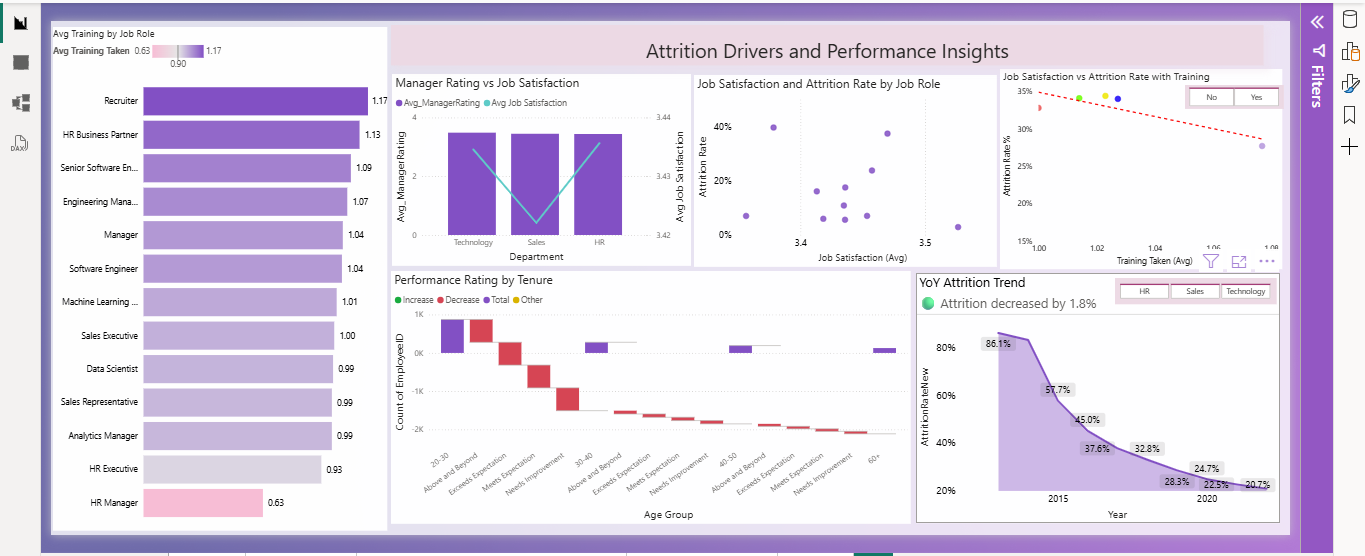

The dashboard page shown, as its layout file describes it:
{"tool":"powerbi","page":{"name":"Attrition Drivers and Performance Insights","canvas":[1931,800],"ordinal":2},"visuals":[{"type":"clusteredBarChart","title":"Avg Training by Job Role","fields":{"Category":["Employee.JobRole"],"Y":["Avg(PerformanceRating.TrainingOpportunitiesTaken)"]},"box":[3.1,9.2,521.4,785.1],"z":0},{"type":"scatterChart","title":"Job Satisfaction and Attrition Rate by Job Role","fields":{"Y":["Page1 Measure.Attrition Rate"],"X":["Page1 Measure.Avg Job Satisfaction"],"Category":["Employee.JobRole"]},"box":[1002.1,84.2,472.2,299.2],"z":1000},{"type":"group","id":"g1","title":"Group 2","box":[1479,74.8,442.6,311.7],"z":2000},{"type":"scatterChart","title":"Job Satisfaction vs Attrition Rate with Training","fields":{"X":["Avg(PerformanceRating.TrainingOpportunitiesTaken)"],"Y":["Page1 Measure.AttritionRateNew"],"Category":["PerformanceRating.JobSatisfaction"]},"box":[1479,74.8,439.5,311.7],"z":2000,"group":"g1"},{"type":"lineClusteredColumnComboChart","title":"Manager Rating vs Job Satisfaction ","fields":{"Category":["Employee.Department"],"Y":["Page1 Measure.Avg_ManagerRating"],"Y2":["Page1 Measure.Avg Job Satisfaction"]},"box":[531.5,82.6,466,299.2],"z":3000},{"type":"waterfallChart","title":"Performance Rating by Tenure","fields":{"Category":["Employee.Age Group"],"Breakdown":["RatingLevel.RatingLevel"],"Y":["Count(Employee.EmployeeID)"]},"box":[529.9,389.6,810.4,394.3],"z":4000},{"type":"lineChart","title":"YoY Attrition Trend","fields":{"Category":["Calendar.Year"],"Y":["Page1 Measure.AttritionRateNew"]},"box":[1348.1,392.7,567.3,389.6],"z":5000},{"type":"advancedSlicerVisual","fields":{"Values":["Employee.OverTime"]},"box":[1767.3,99.7,154.3,37.4],"z":6000,"group":"g1"},{"type":"advancedSlicerVisual","fields":{"Values":["Employee.Department"]},"box":[1658.8,400.5,252.5,40.5],"z":6000},{"type":"shape","title":"Attrition Drivers and Performance Insights","box":[530.6,6.1,1360.2,62.9],"z":7000}]}

Visuals, with their boxes on the page's 1931x800 design canvas (x1, y1, x2, y2). These are canvas units, not pixel positions in the 1365x556 screenshot, which may show the page scaled, cropped or inside an application window:
"Avg Training by Job Role" clusteredBarChart: {"x1": 3, "y1": 9, "x2": 524, "y2": 794}
"Job Satisfaction and Attrition Rate by Job Role" scatterChart: {"x1": 1002, "y1": 84, "x2": 1474, "y2": 383}
"Group 2" group: {"x1": 1479, "y1": 75, "x2": 1922, "y2": 386}
"Job Satisfaction vs Attrition Rate with Training" scatterChart: {"x1": 1479, "y1": 75, "x2": 1918, "y2": 386}
"Manager Rating vs Job Satisfaction " lineClusteredColumnComboChart: {"x1": 532, "y1": 83, "x2": 998, "y2": 382}
"Performance Rating by Tenure" waterfallChart: {"x1": 530, "y1": 390, "x2": 1340, "y2": 784}
"YoY Attrition Trend" lineChart: {"x1": 1348, "y1": 393, "x2": 1915, "y2": 782}
advancedSlicerVisual - Employee.OverTime: {"x1": 1767, "y1": 100, "x2": 1922, "y2": 137}
advancedSlicerVisual - Employee.Department: {"x1": 1659, "y1": 400, "x2": 1911, "y2": 441}
"Attrition Drivers and Performance Insights" shape: {"x1": 531, "y1": 6, "x2": 1891, "y2": 69}
